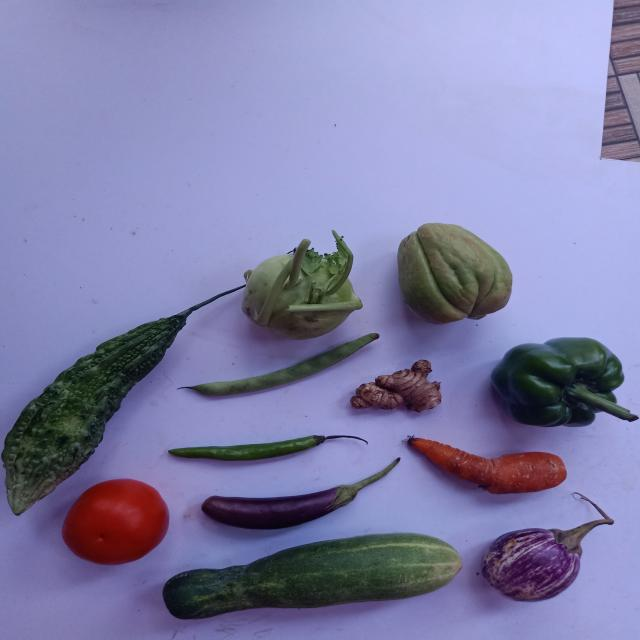Beans: (188, 333, 379, 396)
Bitter Gourd: (1, 288, 239, 516)
Brinjal: (201, 458, 400, 530)
Capsicum: (492, 338, 639, 427)
Carrot: (411, 439, 566, 494)
Chayote: (398, 223, 512, 324)
Cucumber: (162, 534, 462, 620)
Eggplant: (483, 529, 581, 602)
Ginger: (350, 360, 441, 412)
Green Chilly: (168, 436, 367, 461)
Tomato: (61, 479, 168, 566)
Turnip: (241, 232, 362, 339)
